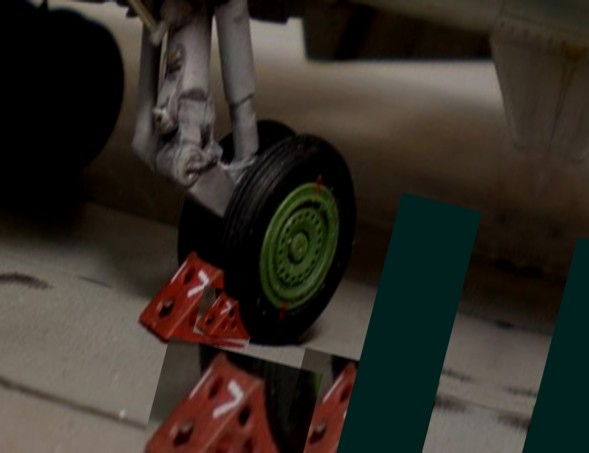chock: (136, 335, 323, 453), (276, 347, 440, 453), (133, 238, 266, 362), (193, 285, 260, 346)
wheel: (196, 118, 379, 361), (6, 6, 141, 192)
